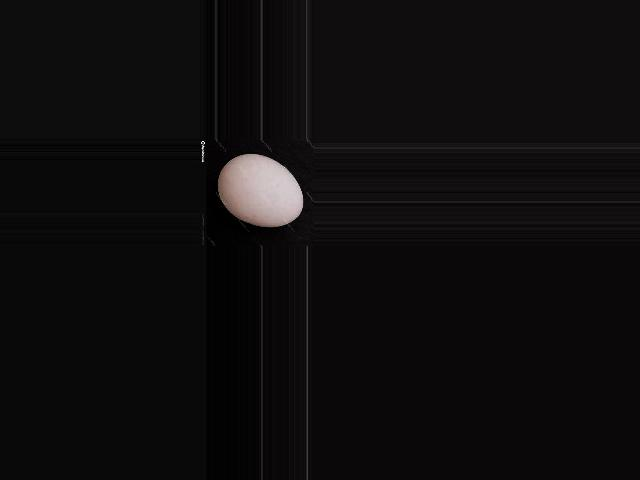egg: (217, 154, 302, 227)
